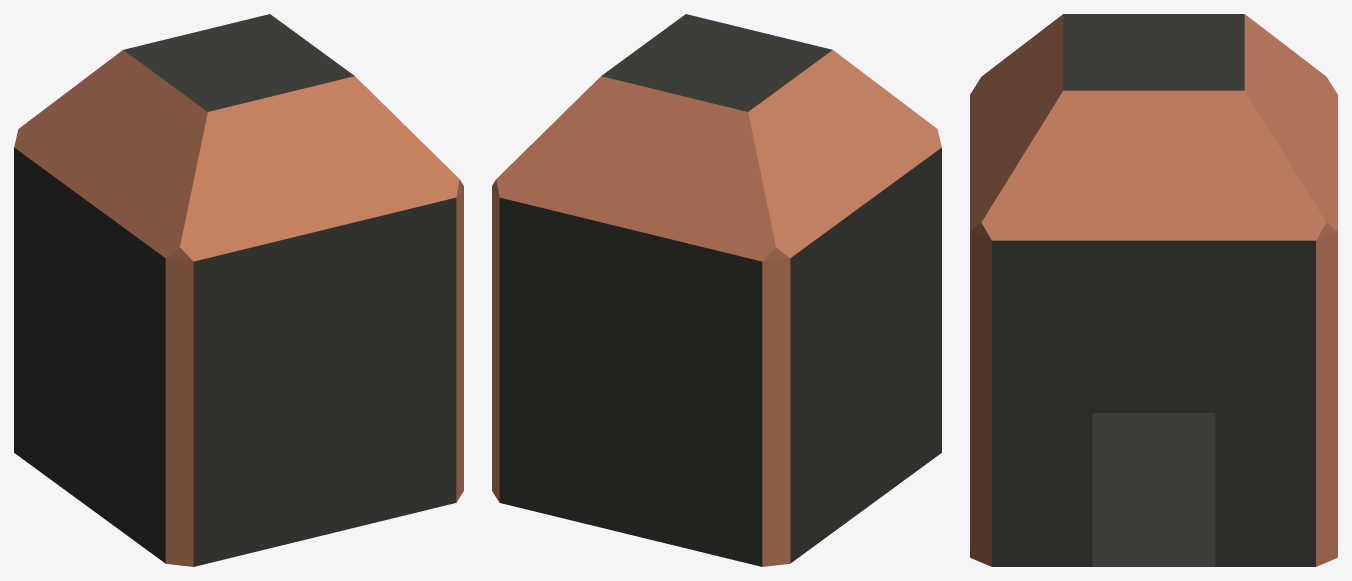
File: stone smelter.glb
3 views of the same model, side by side, from view 1: azimuth 30°, elevation 25°; view 2: azimuth 150°, elevation 25°; view 3: azimuth 270°, elevation 25° (orthographic). The views are drawn at different scales.
Parts seen in each view (by area): view 1: Cube; view 2: Cube; view 3: Cube.
Part boxes in pixels (bbox=[...]): Cube: bbox=[14, 14, 463, 566]; Cube: bbox=[492, 14, 941, 566]; Cube: bbox=[970, 14, 1337, 566].
Size of the model in its own units: 1.56 by 2.05 by 1.56.
